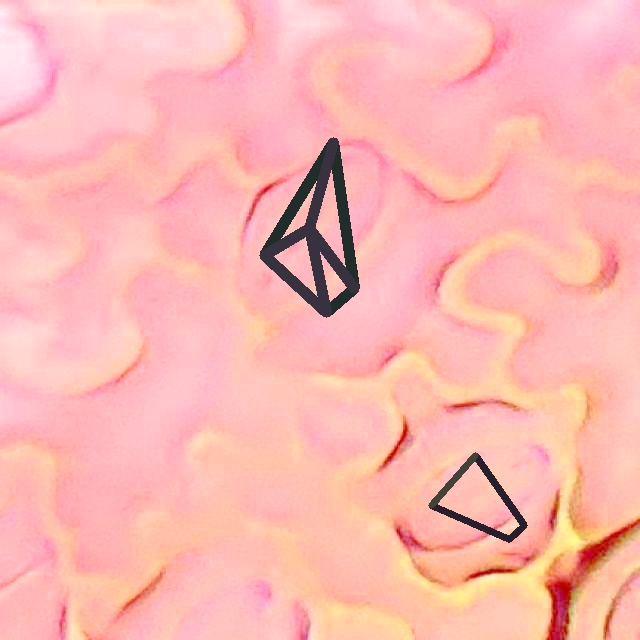open: (259, 138, 359, 317), (428, 452, 527, 542)
